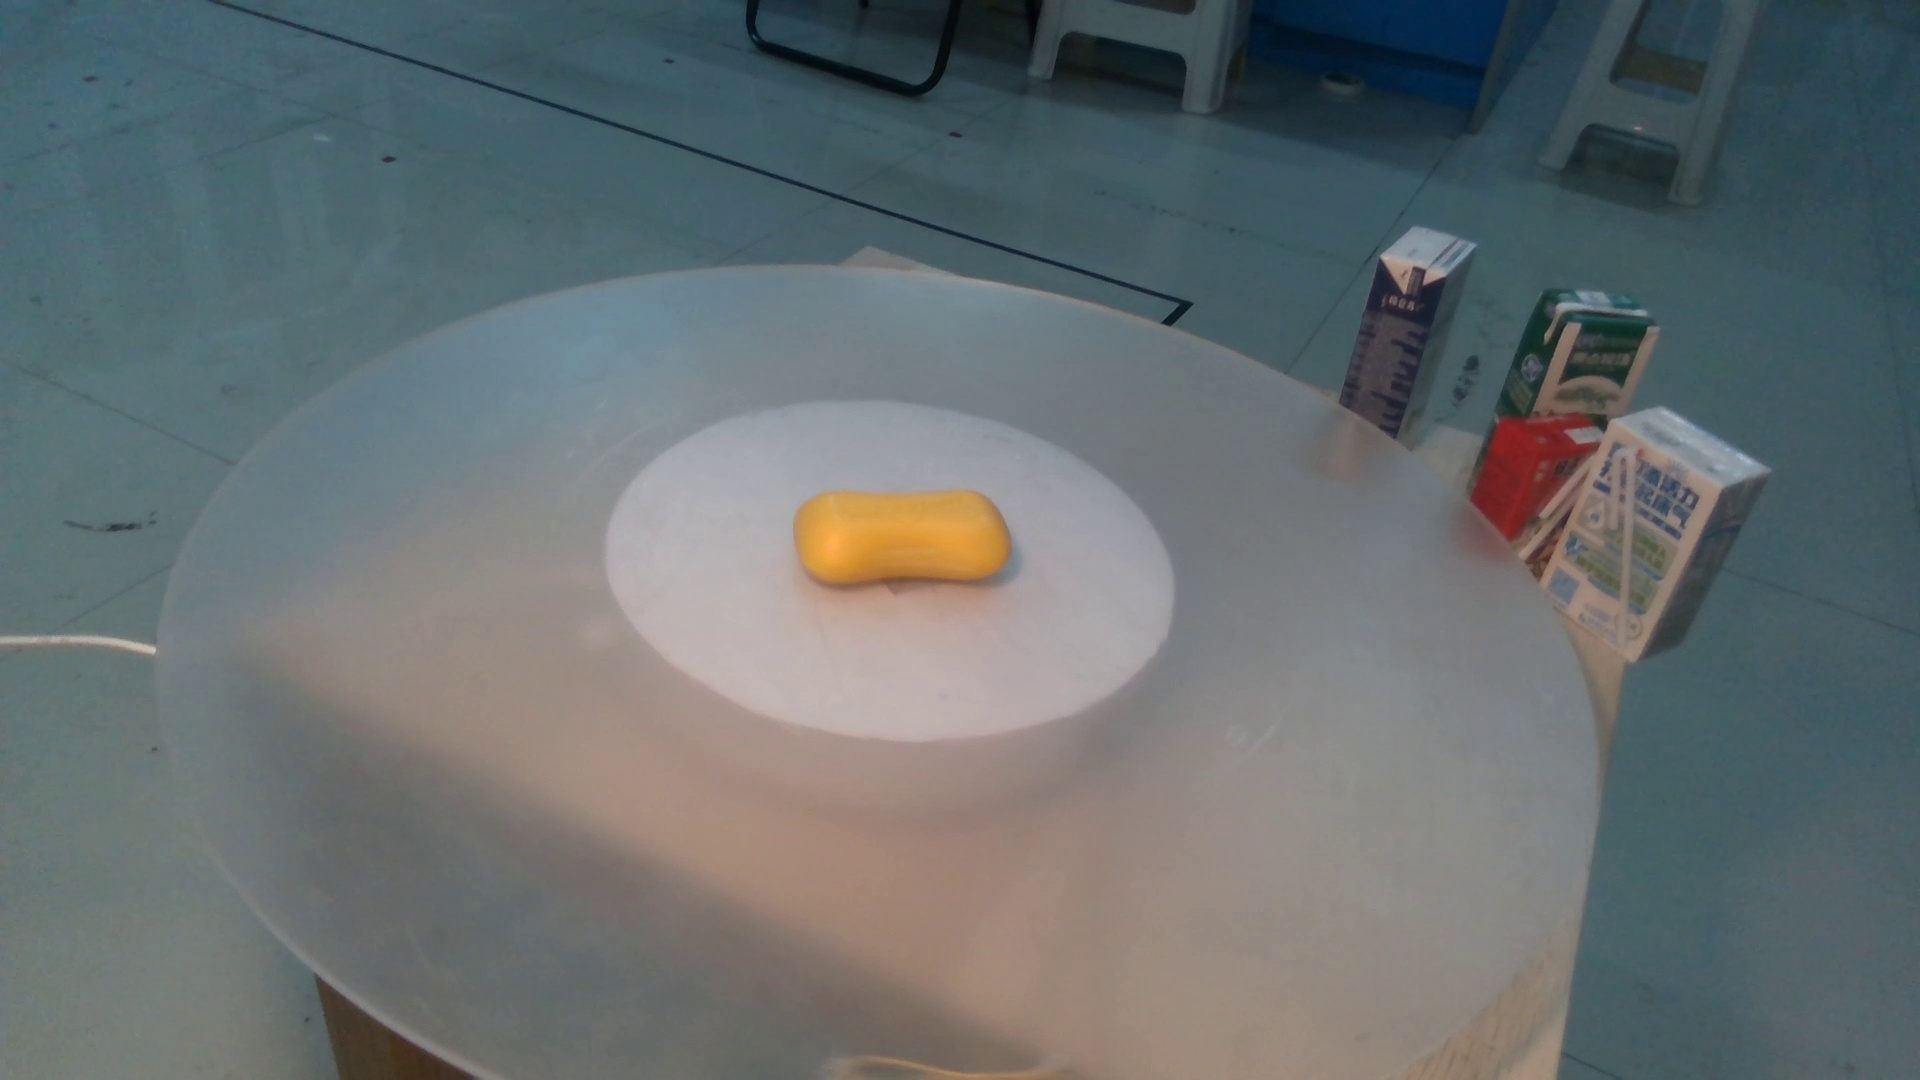CA003_1: (757, 459, 1019, 621)
